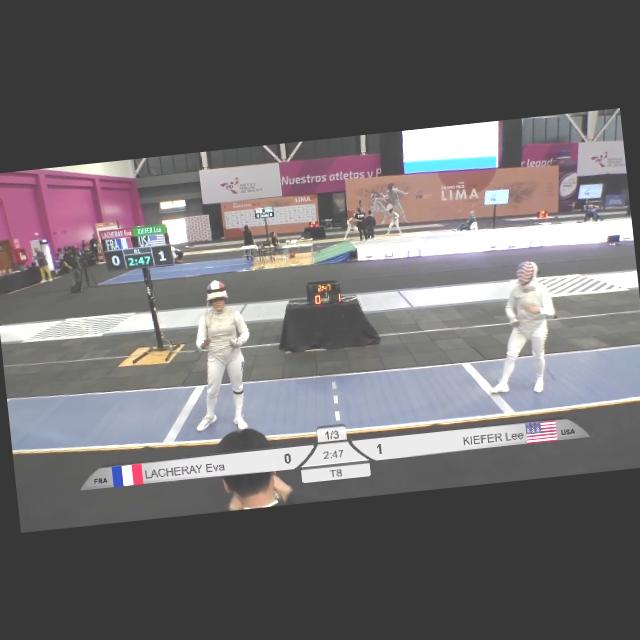blade: (508, 314, 558, 388), (167, 334, 240, 378)
